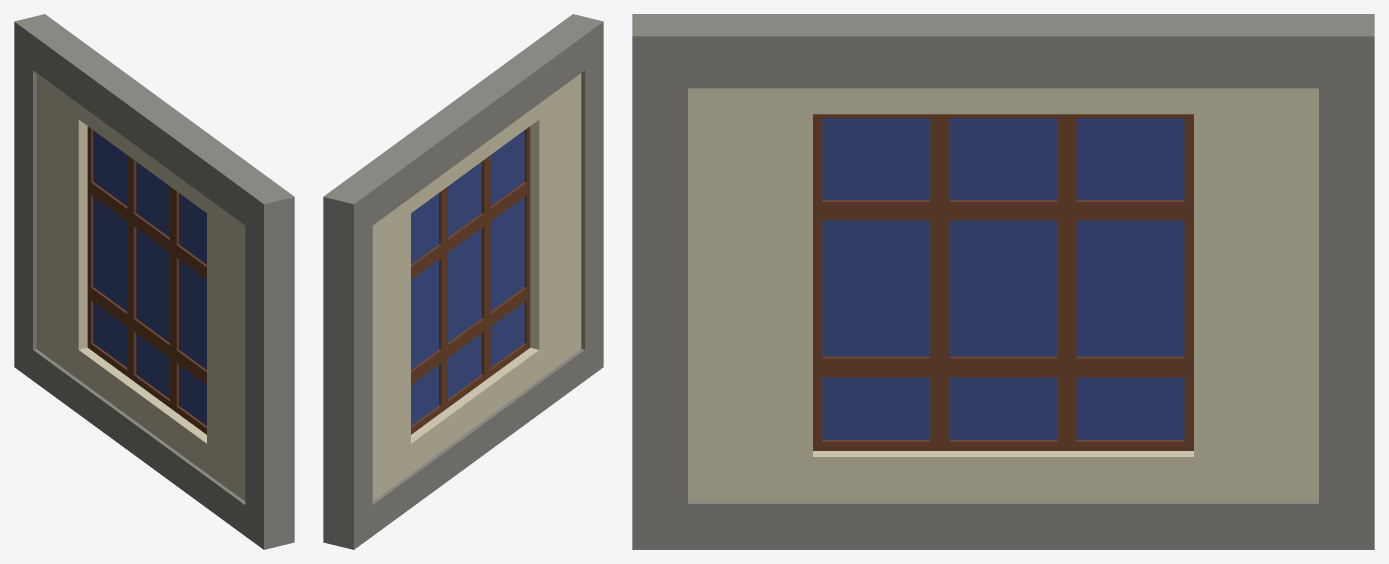
File: Window02_house2.obj
3 renders of one model, left to right at view 1: azimuth 30°, elevation 25°; view 2: azimuth 150°, elevation 25°; view 3: azimuth 270°, elevation 25°, orthographic. The views are drawn at different scales.
Parts seen in each view (by area): view 1: Window02_house02_Cube.004; view 2: Window02_house02_Cube.004; view 3: Window02_house02_Cube.004.
Part boxes in pixels (x1,y1,x2,y2): Window02_house02_Cube.004: (14, 14, 294, 549); Window02_house02_Cube.004: (323, 14, 603, 549); Window02_house02_Cube.004: (632, 14, 1374, 549).
Size of the model in its own units: 0.3417 by 3.67 by 4.81.
